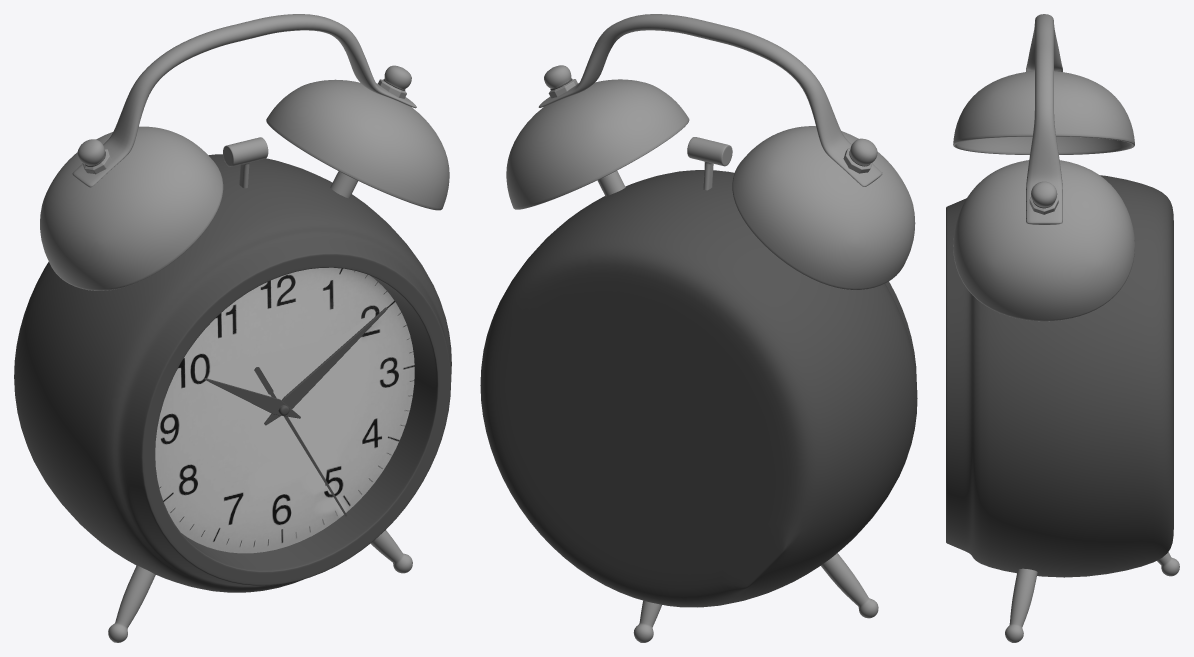
The model's file is Reloj.fbx.
3 renders of one model, left to right at view 1: azimuth 30°, elevation 25°; view 2: azimuth 150°, elevation 25°; view 3: azimuth 270°, elevation 25°, orthographic. The views are drawn at different scales.
Visible parts, largest first — view 1: Model; view 2: Model; view 3: Model.
Boxes of the visible parts, bbox=[...] form: Model: bbox=[14, 14, 451, 642]; Model: bbox=[480, 14, 917, 642]; Model: bbox=[946, 14, 1179, 642].
Bounding box in the file's own units: 322 × 463 × 182.
